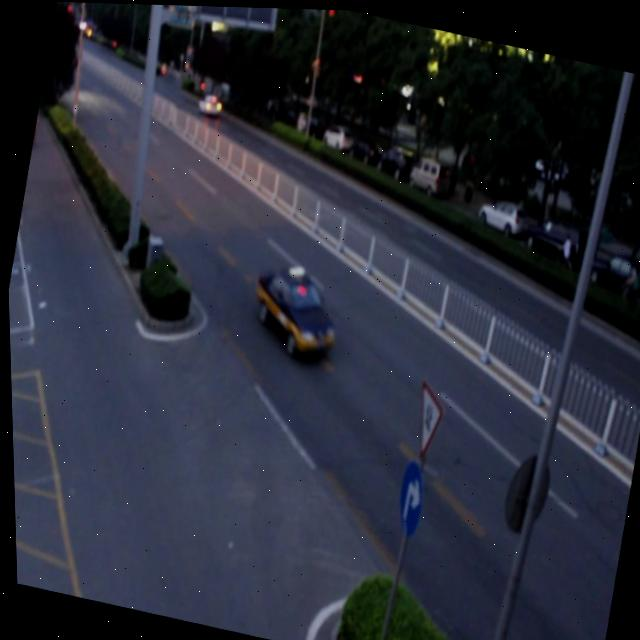car: (244, 258, 346, 360)
